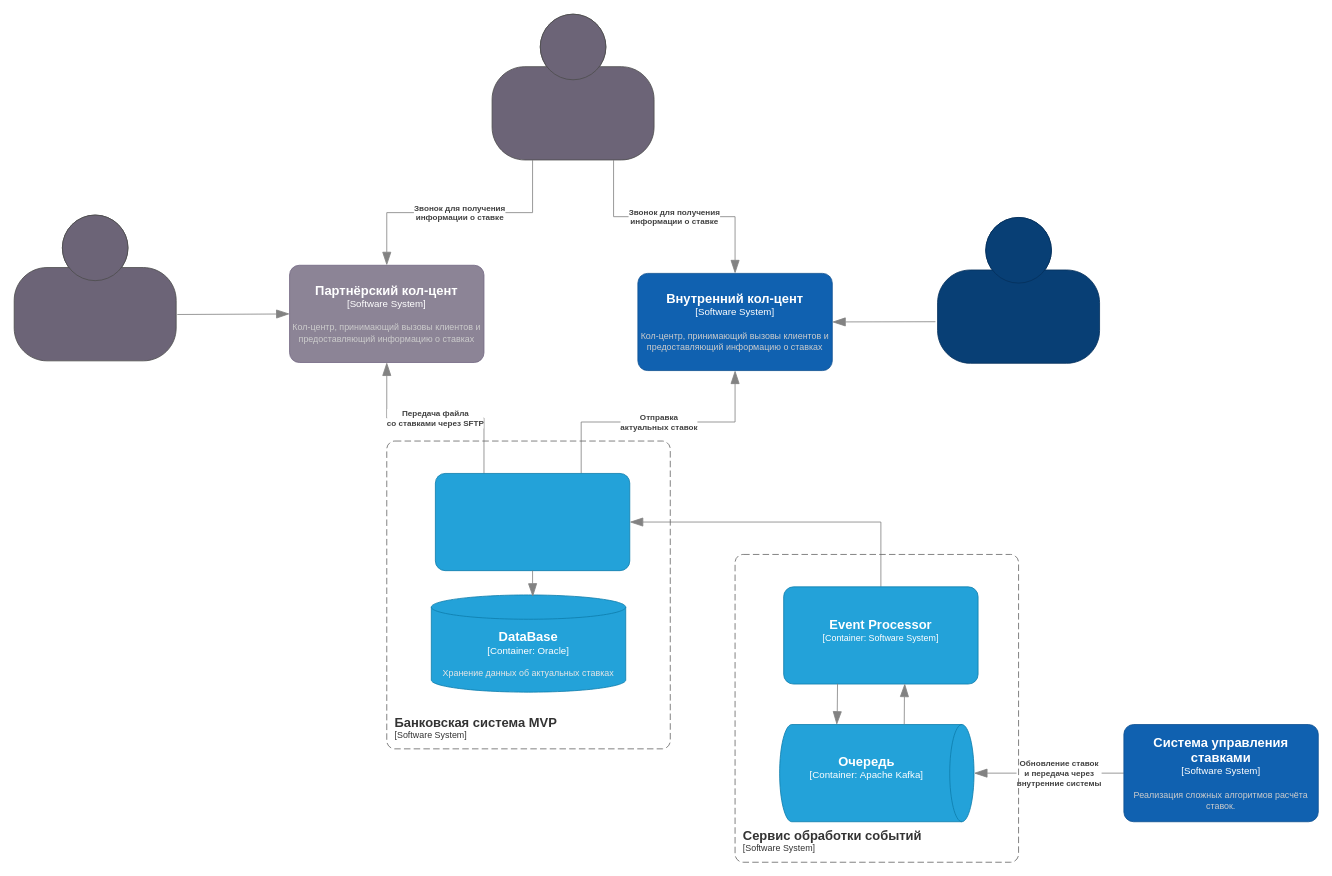
The diagram is 1332 pixels wide and 876 high, and some of its shapes have lost their labels. Each missing label, with the centre of its shape:
Банковская система MVP [Container: ASP.NET MVC 4.5]: (532,522)
Клиенты [Person] Клиенты банка "Стандарт": (572,86)
Сотрудники кол-центра банка [Person]: (1018,290)
Сотрудники партнёрского кол-центра [Person]: (94,287)
